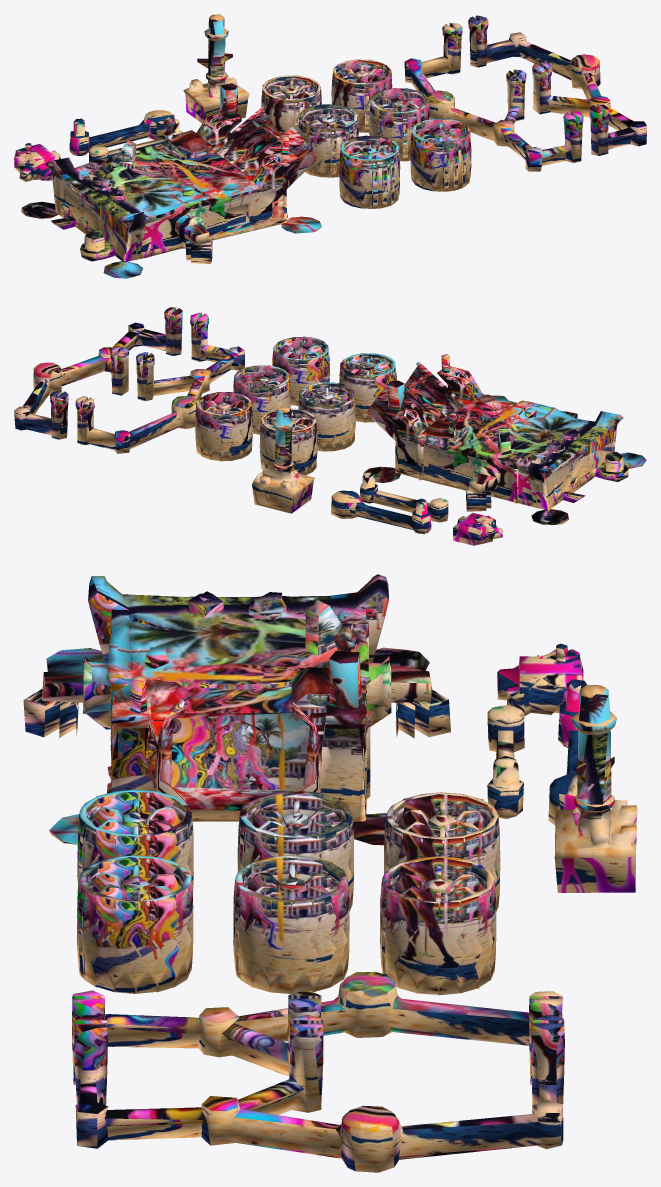
Rendered from nasa_curiosity-rover-simplified.glb.
3 views of the same model, one above another, from view 1: azimuth 30°, elevation 25°; view 2: azimuth 150°, elevation 25°; view 3: azimuth 270°, elevation 25° (orthographic). The views are drawn at different scales.
Visible parts, largest first — view 1: A; view 2: A; view 3: A.
Boxes of the visible parts, x1=… form: A: x1=14, y1=14, x2=646, y2=278; A: x1=14, y1=307, x2=646, y2=545; A: x1=23, y1=574, x2=637, y2=1172.
Bounding box in the file's own units: 2 × 0.3329 × 0.9858.
1 material, 1 textured.
